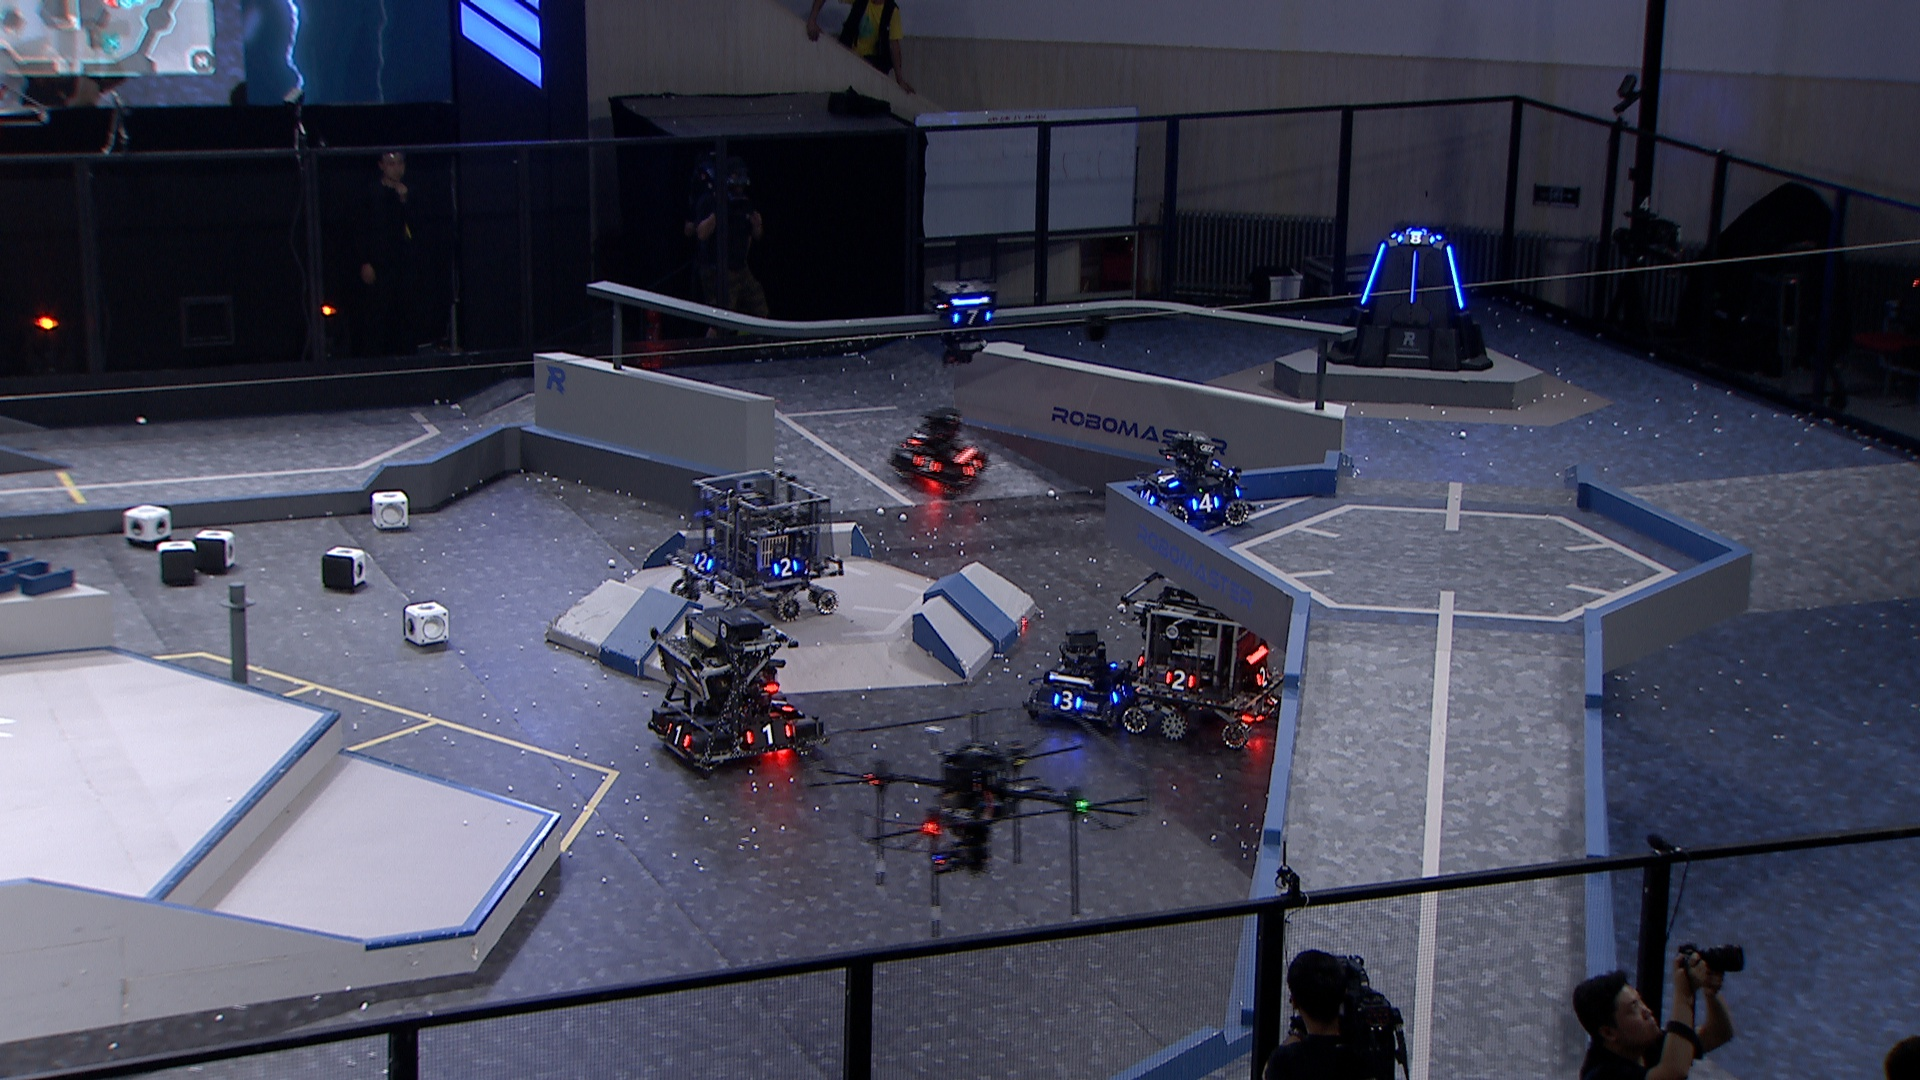armor: (1356, 240, 1387, 306), (1443, 243, 1470, 314), (742, 717, 793, 750), (949, 305, 997, 327), (1162, 666, 1196, 692), (1404, 248, 1420, 305), (1048, 688, 1084, 713), (665, 723, 692, 750), (959, 454, 986, 480), (1395, 228, 1437, 245), (911, 454, 944, 475), (1189, 491, 1220, 513), (905, 425, 934, 446), (771, 556, 800, 578), (766, 694, 796, 713), (694, 549, 717, 574), (1154, 469, 1182, 491), (1109, 678, 1130, 704), (1253, 665, 1273, 688), (1134, 487, 1158, 505)
base: (1325, 225, 1494, 375)
car: (1114, 560, 1291, 752), (642, 597, 827, 777), (667, 465, 844, 624), (1025, 621, 1139, 732), (1127, 429, 1254, 527), (887, 400, 1000, 500)
watcher: (928, 276, 1000, 371)
